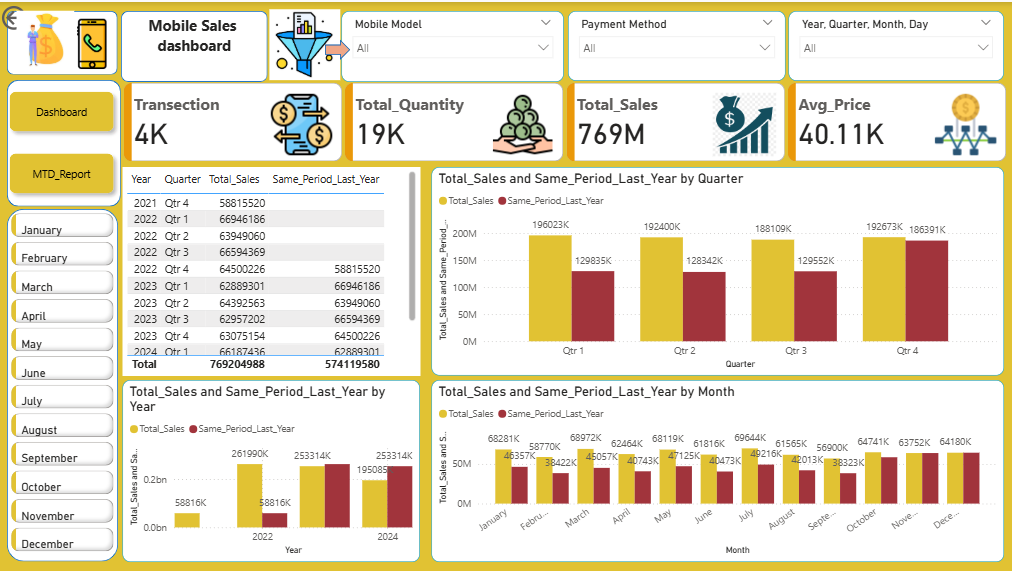

The dashboard page shown, as its layout file describes it:
{"tool":"powerbi","page":{"name":"Same_period_last_year","canvas":[1280,720],"ordinal":2},"visuals":[{"type":"shape","box":[12.1,10.6,139.3,80.3],"z":0},{"type":"shape","box":[12,97.6,143.4,159.3],"z":1000},{"type":"cardVisual","fields":{"Data":["Sheet.Number_of_Transection","Sheet.Total_Quantity","Sheet.Total_Amount","Calender.Avg_Price_Per_Unit"]},"box":[152.9,96.9,1125.1,109],"z":2000},{"type":"slicer","fields":{"Values":["Sheet.Mobile Model"]},"box":[433.1,10.6,280.1,89.3],"z":3000},{"type":"actionButton","box":[0,0,100,40],"z":4000},{"type":"slicer","fields":{"Values":["Sheet.Payment Method"]},"box":[717.7,10.6,274.1,87.8],"z":5000},{"type":"slicer","fields":{"Values":["Calender.Date.Variation.Date Hierarchy.Year","Calender.Date.Variation.Date Hierarchy.Quarter","Calender.Date.Variation.Date Hierarchy.Month","Calender.Date.Variation.Date Hierarchy.Day"]},"box":[996.3,10.6,271,87.8],"z":6000},{"type":"image","box":[252.9,4.5,266.5,99.9],"z":7000},{"type":"shape","box":[411.9,46.9,31.8,25.7],"z":8000},{"type":"shape","box":[154.4,10.6,184.7,89.3],"z":9000},{"type":"textbox","box":[154.4,10.6,184.7,87.8],"z":10000},{"type":"tableEx","fields":{"Values":["Calender.Date.Variation.Date Hierarchy.Year","Calender.Date.Variation.Date Hierarchy.Quarter","Sheet.Total_Sales","Sheet.Same_Period_Last_Year"]},"box":[157.3,207.1,374.4,262.9],"z":11000},{"type":"clusteredColumnChart","fields":{"Category":["Calender.Date.Variation.Date Hierarchy.Year"],"Y":["Sheet.Total_Sales","Sheet.Same_Period_Last_Year"]},"box":[157.3,476,374.4,229],"z":12000},{"type":"clusteredColumnChart","fields":{"Y":["Sheet.Total_Sales","Sheet.Same_Period_Last_Year"],"Category":["Calender.Date.Variation.Date Hierarchy.Quarter"]},"box":[545.7,207.1,721,262.9],"z":13000},{"type":"clusteredColumnChart","fields":{"Y":["Sheet.Total_Sales","Sheet.Same_Period_Last_Year"],"Category":["Calender.Date.Variation.Date Hierarchy.Month"]},"box":[545.7,476,721,229],"z":14000},{"type":"pageNavigator","box":[5.7,103.9,149.3,147.4],"z":15000},{"type":"shape","box":[11.3,260.8,139.8,444.1],"z":16000},{"type":"advancedSlicerVisual","fields":{"Values":["Calender.Date.Variation.Date Hierarchy.Month"]},"box":[11.3,260.8,139.8,444.1],"z":17000},{"type":"image","box":[81.3,3.8,73.7,98.3],"z":17001},{"type":"image","box":[11.3,5.7,96.4,83.2],"z":17002}]}

Visuals, with their boxes in screenshot pixels (x1, y1, x2, y2), scaled from the page's 1280x720 canvas onto the 1012x571 screenshot:
shape: 10,8,120,72
shape: 9,77,123,204
cardVisual - Sheet.Number_of_Transection x Sheet.Total_Quantity: 121,77,1010,163
slicer - Sheet.Mobile Model: 342,8,564,79
actionButton: 0,0,79,32
slicer - Sheet.Payment Method: 567,8,784,78
slicer - Calender.Date.Variation.Date Hierarchy.Year x Calender.Date.Variation.Date Hierarchy.Quarter: 788,8,1002,78
image: 200,4,411,83
shape: 326,37,351,58
shape: 122,8,268,79
textbox: 122,8,268,78
tableEx - Calender.Date.Variation.Date Hierarchy.Year x Calender.Date.Variation.Date Hierarchy.Quarter: 124,164,420,373
clusteredColumnChart - Calender.Date.Variation.Date Hierarchy.Year x Sheet.Total_Sales: 124,377,420,559
clusteredColumnChart - Sheet.Total_Sales x Sheet.Same_Period_Last_Year: 431,164,1001,373
clusteredColumnChart - Sheet.Total_Sales x Sheet.Same_Period_Last_Year: 431,377,1001,559
pageNavigator: 5,82,123,199
shape: 9,207,119,559
advancedSlicerVisual - Calender.Date.Variation.Date Hierarchy.Month: 9,207,119,559
image: 64,3,123,81
image: 9,5,85,71
